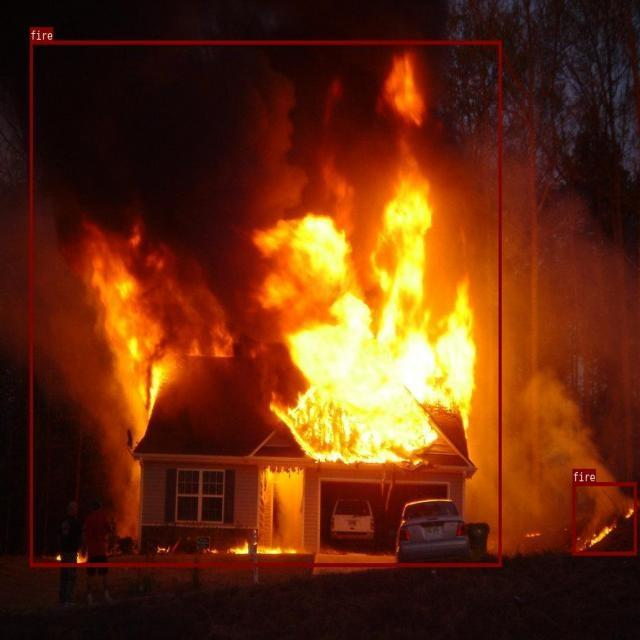fire: (29, 40, 501, 566), (572, 481, 636, 555)
